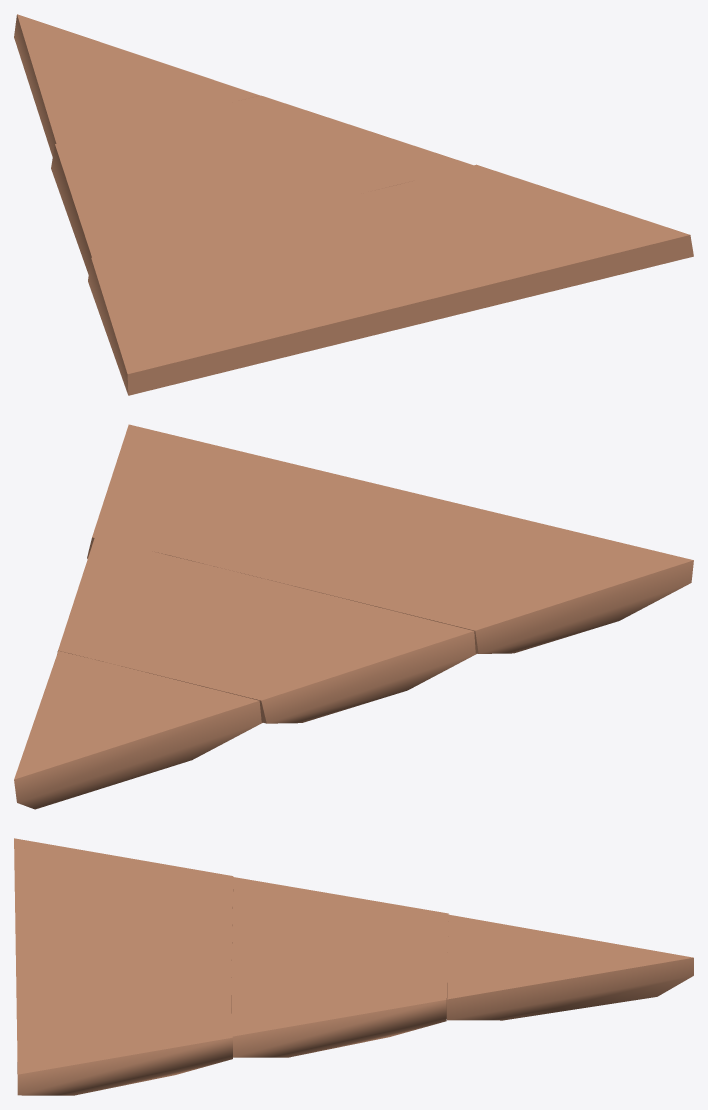
The model's file is sl45_pineSplitLogTriFloorSection2.glb.
The picture shows the model from 3 angles, top to bottom: view 1: azimuth 30°, elevation 25°; view 2: azimuth 150°, elevation 25°; view 3: azimuth 270°, elevation 25°; orthographic projection. The views are drawn at different scales.
Parts seen in each view (by area): view 1: inside; view 2: inside; view 3: inside.
Boxes of the visible parts, bbox=[...] form: inside: bbox=[14, 14, 693, 395]; inside: bbox=[14, 424, 693, 809]; inside: bbox=[14, 838, 693, 1095].
Size of the model in its own units: 1.59 by 0.1233 by 1.92.
